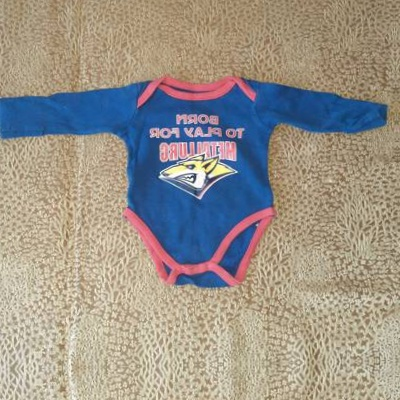Body: (1, 44, 400, 295), (395, 35, 400, 286)
